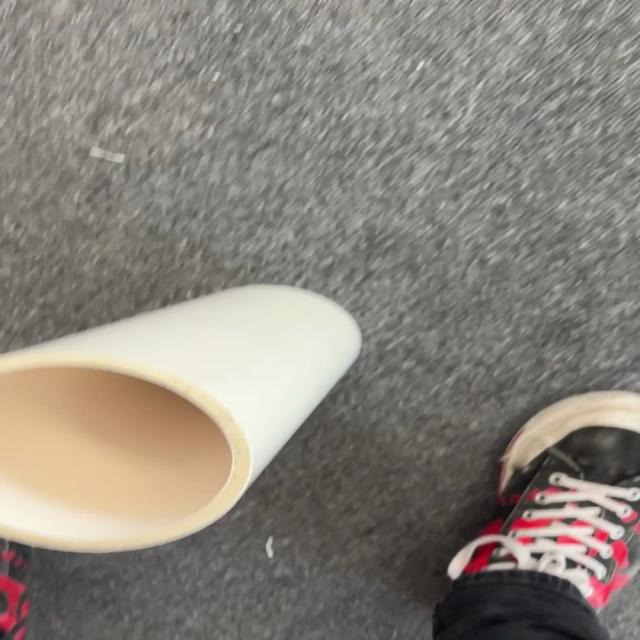Coral: (1, 282, 363, 554)
